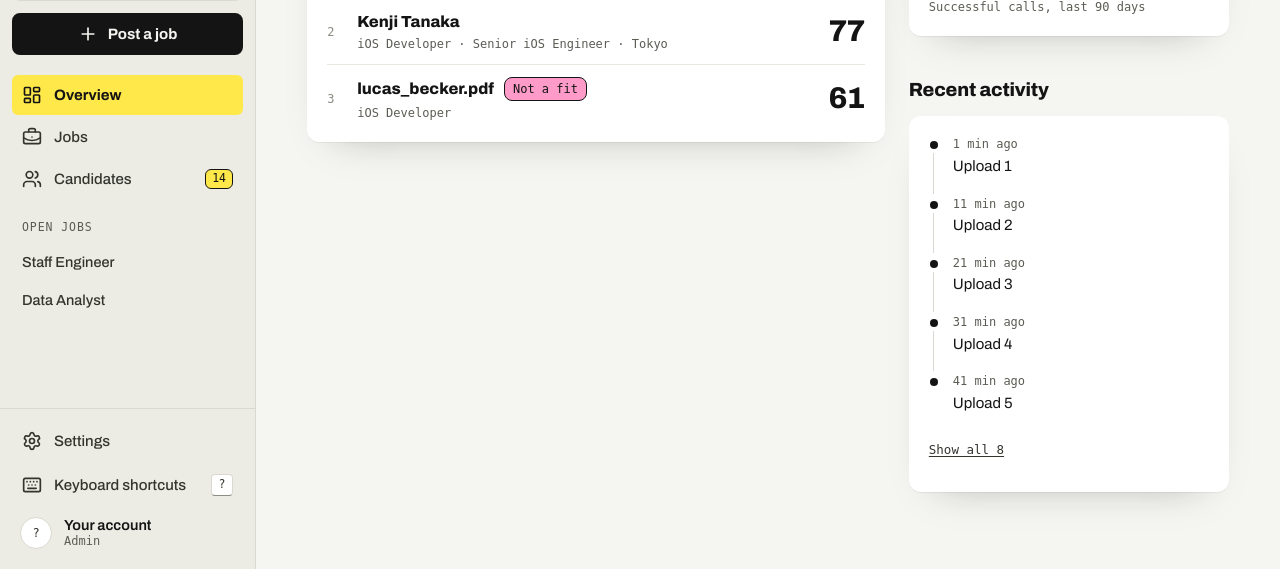
Test: overview page › shows five events and opens the rest with Show all
(page scrolled)
Click the button "Show all 8": {"x": 966, "y": 450} [929, 428, 1004, 472]
(page scrolled)
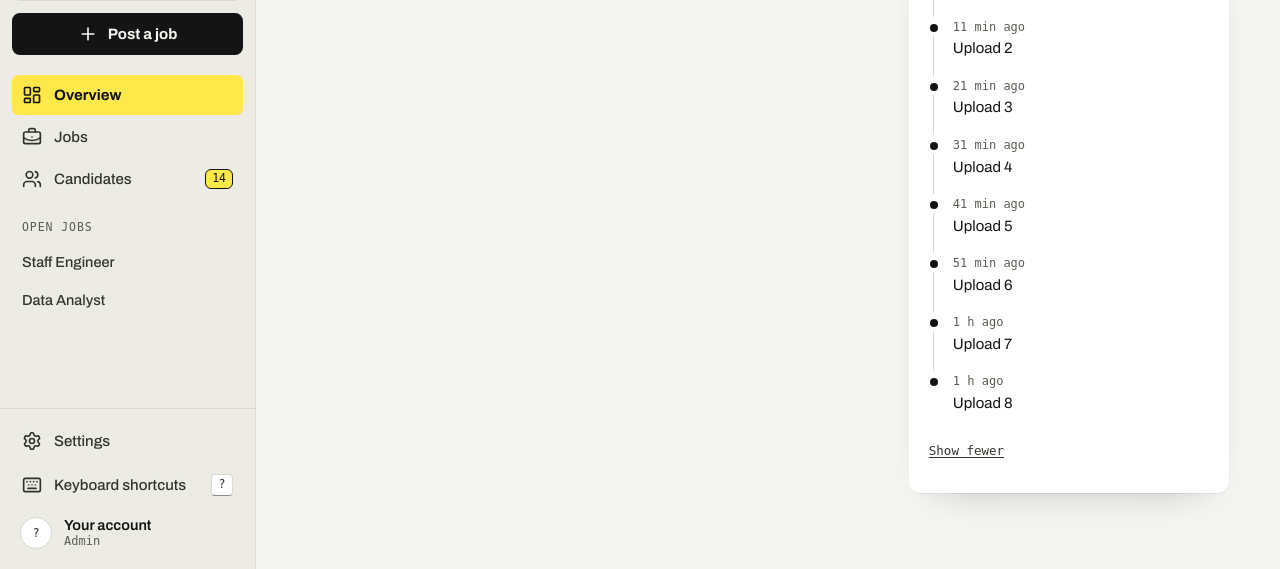
Expected: the link "Upload 8" is shown, [953, 395, 1013, 411]
